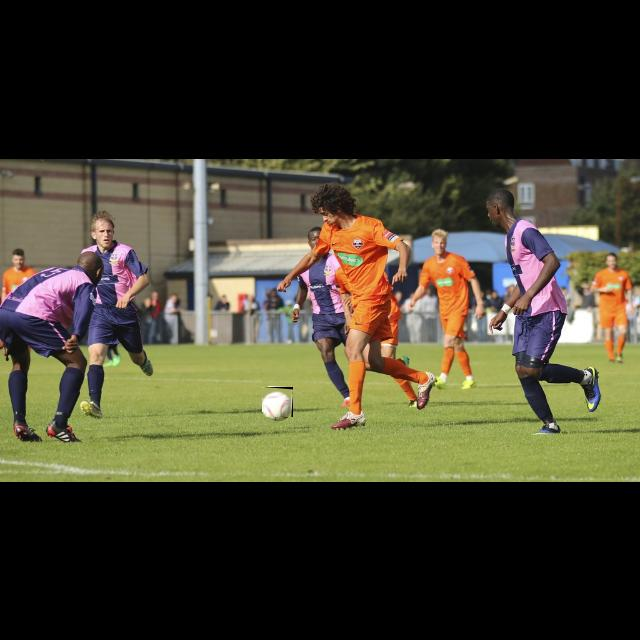Football: (263, 387, 293, 417)
